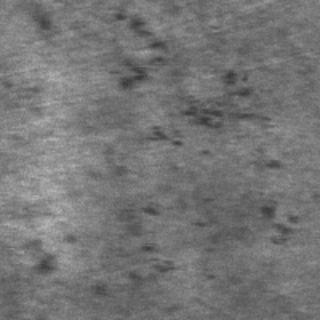rolled pit: (128, 62, 278, 168), (108, 198, 215, 304), (104, 0, 168, 92)
